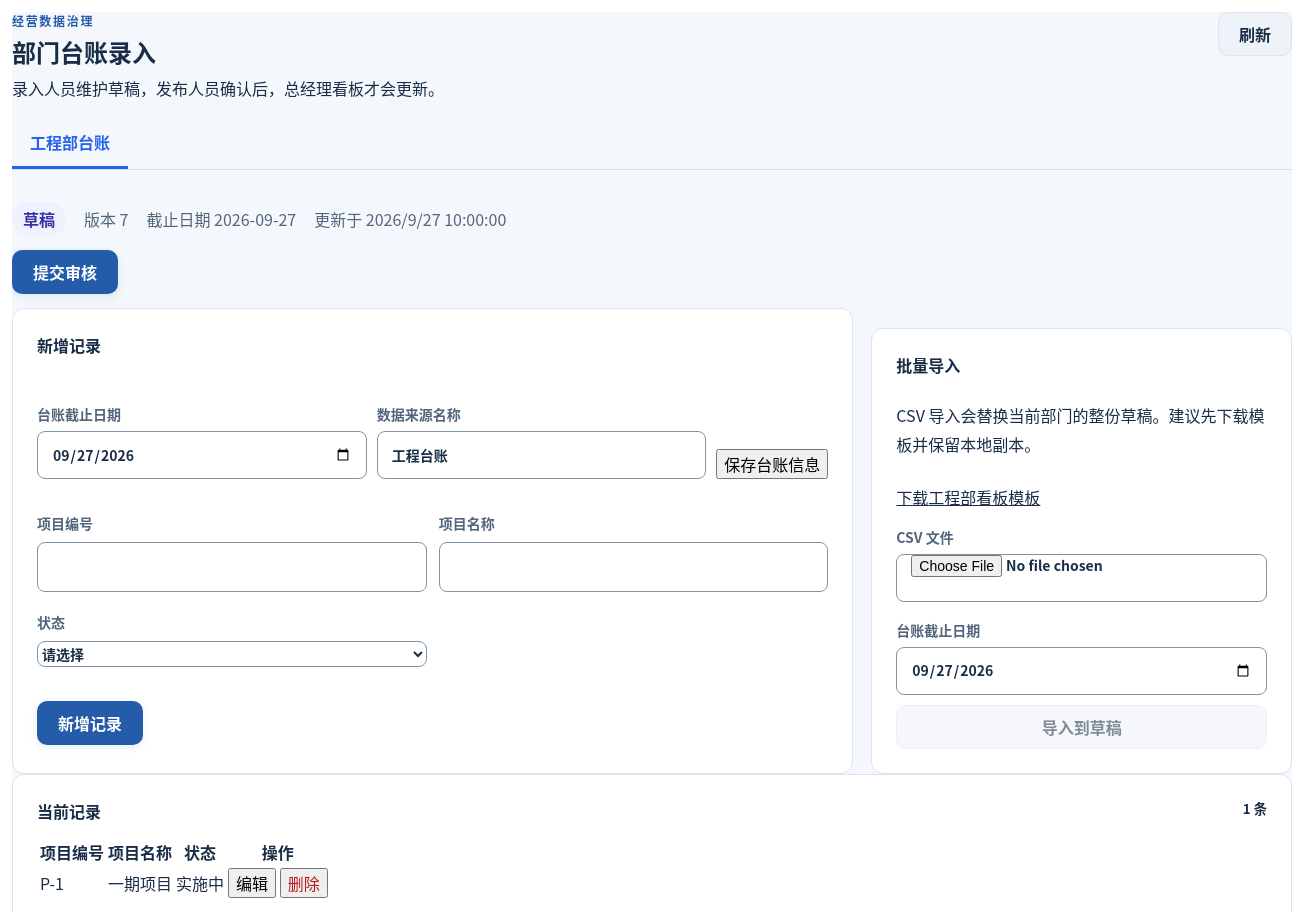
Test: loads only granted ledgers and adds a record against the displayed revision
Type "P-2" into the field labelled "项目编号". click: point(232, 567)
box: [37,542,427,592]
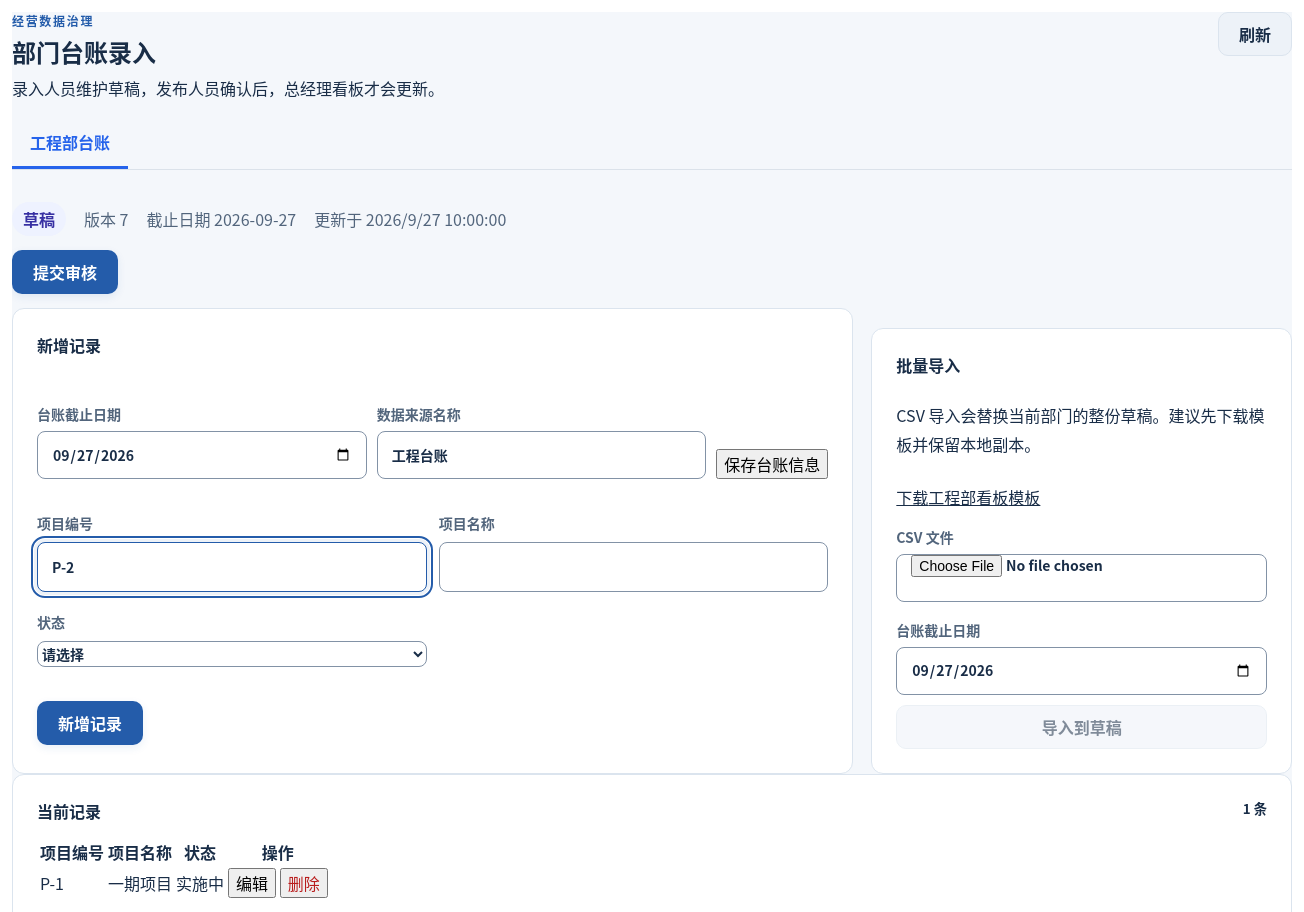
Type "二期项目" into the field labelled "项目名称". click: point(634, 567)
box: [439,542,828,592]
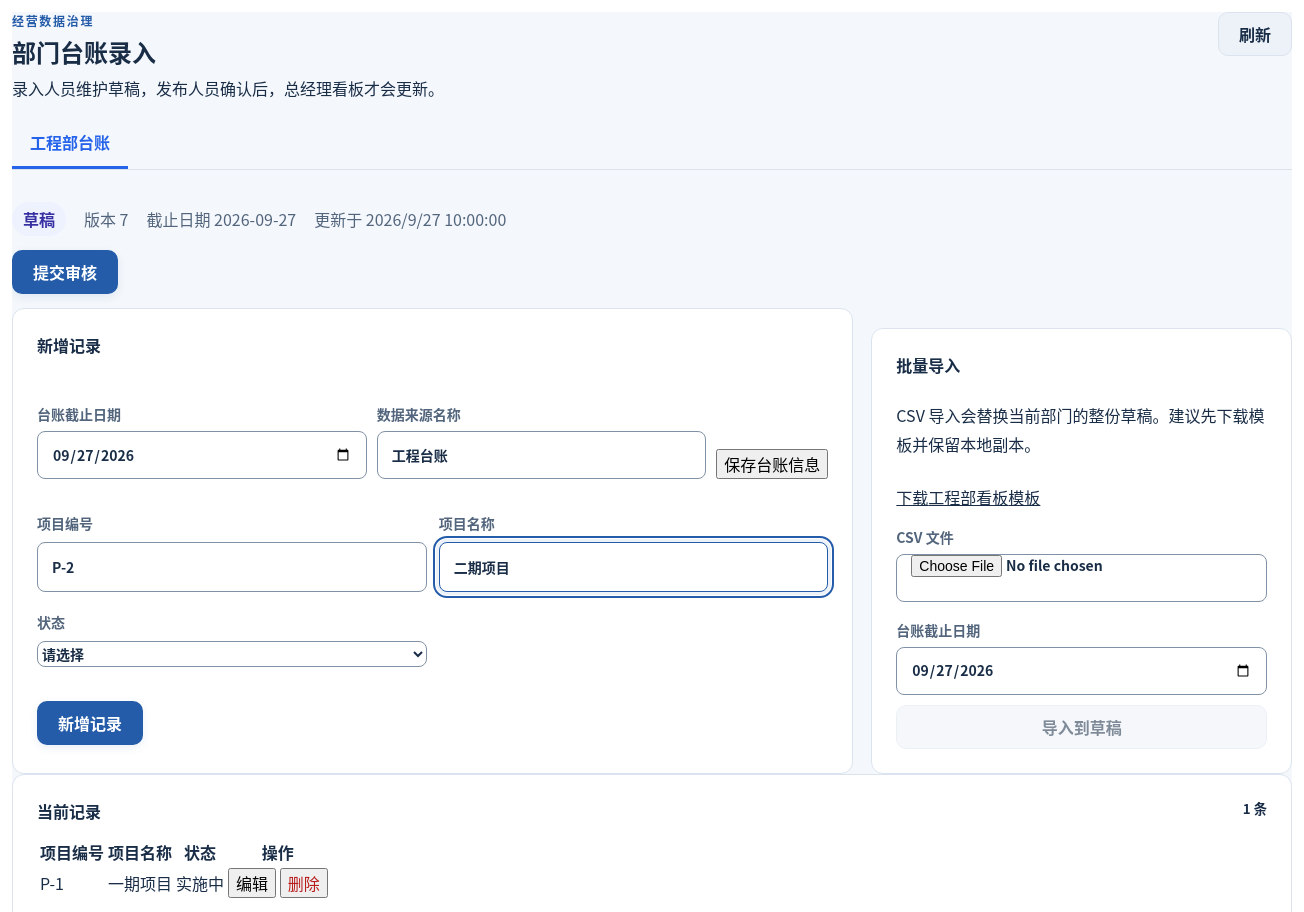
Select "已验收" in the dropdown labelled "状态". click: point(232, 654)
box: [37,641,427,667]
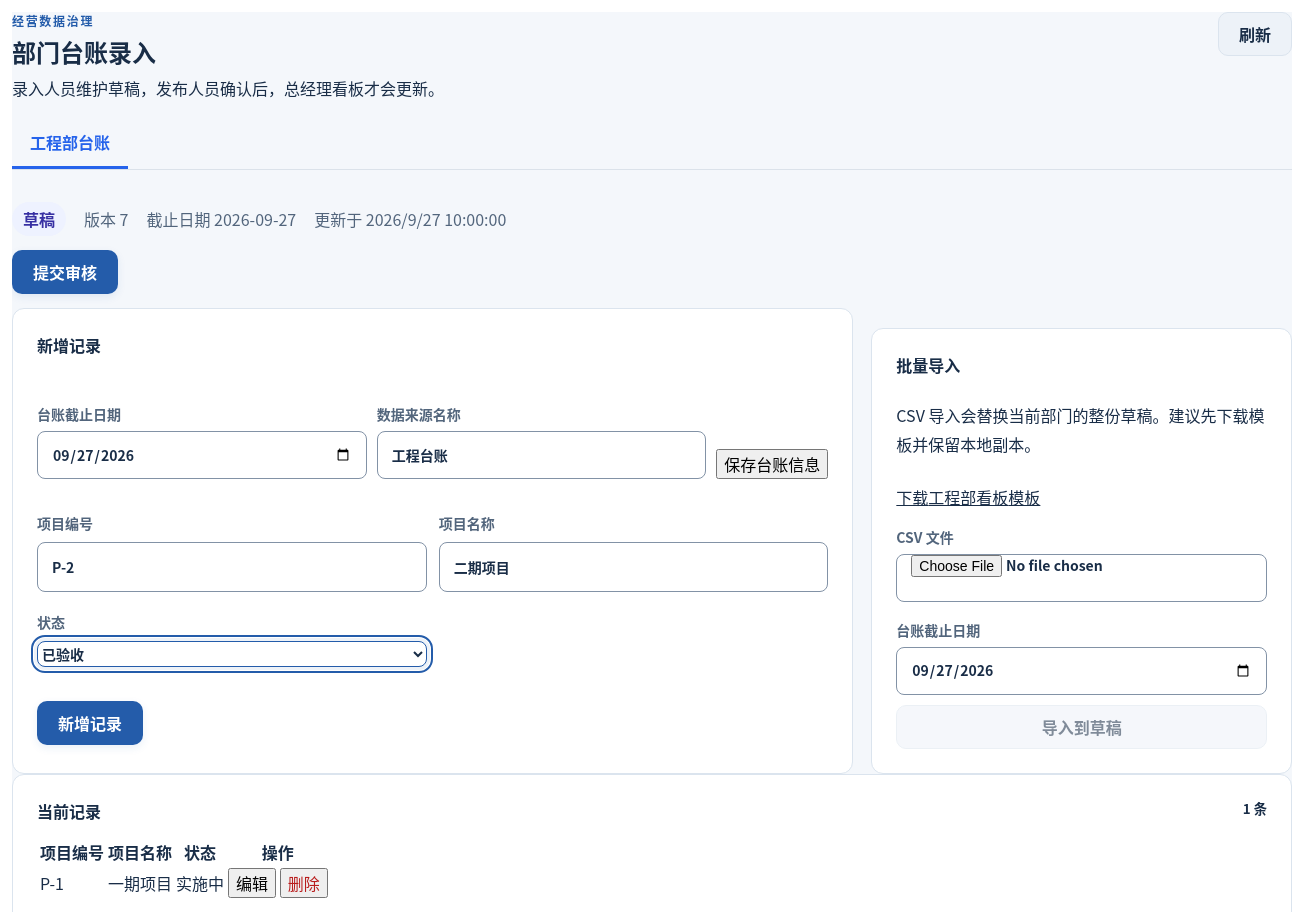
Click the button "新增记录". click: point(90, 723)
box: [37,701,143,745]
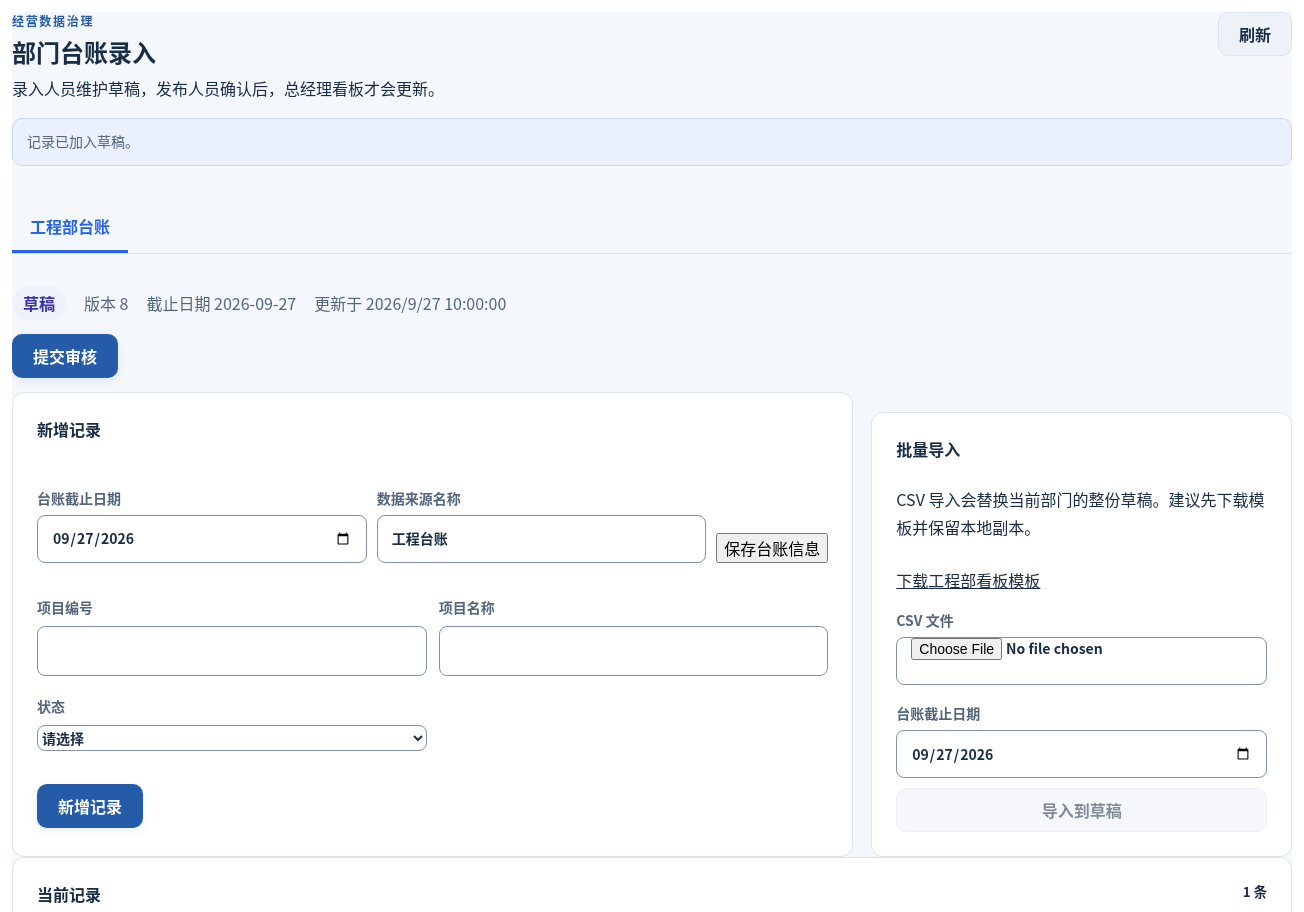
Check: the text "记录已加入草稿。" is shown, box [12,118,1292,166]
